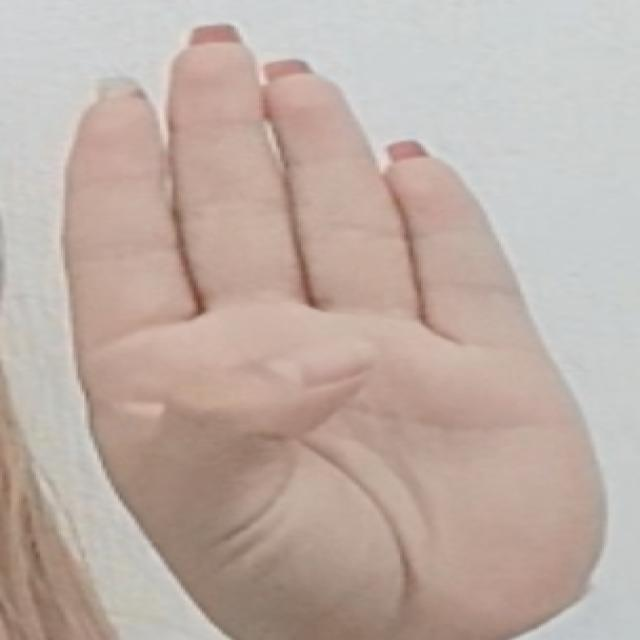B: (55, 19, 615, 625)
